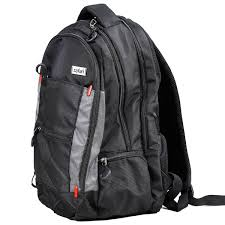backpack: (30, 2, 224, 221)
